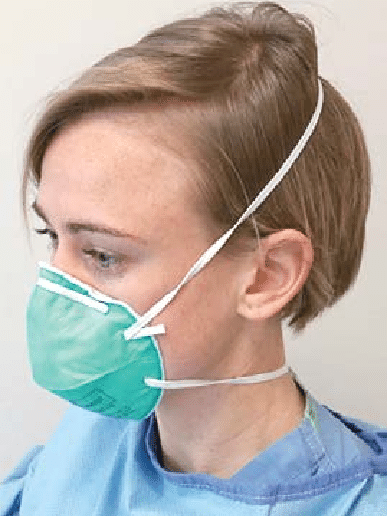n95: (20, 263, 176, 427)
